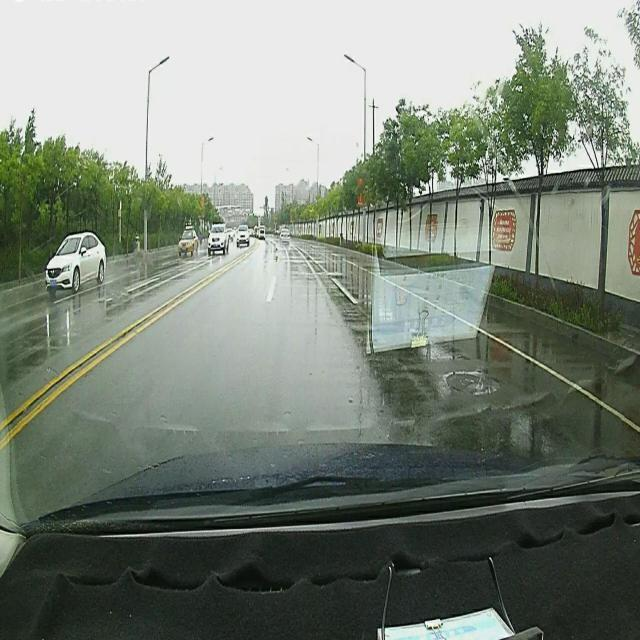car: (44, 232, 106, 286), (208, 224, 228, 252), (180, 228, 197, 252), (236, 226, 250, 248), (280, 228, 290, 244)
